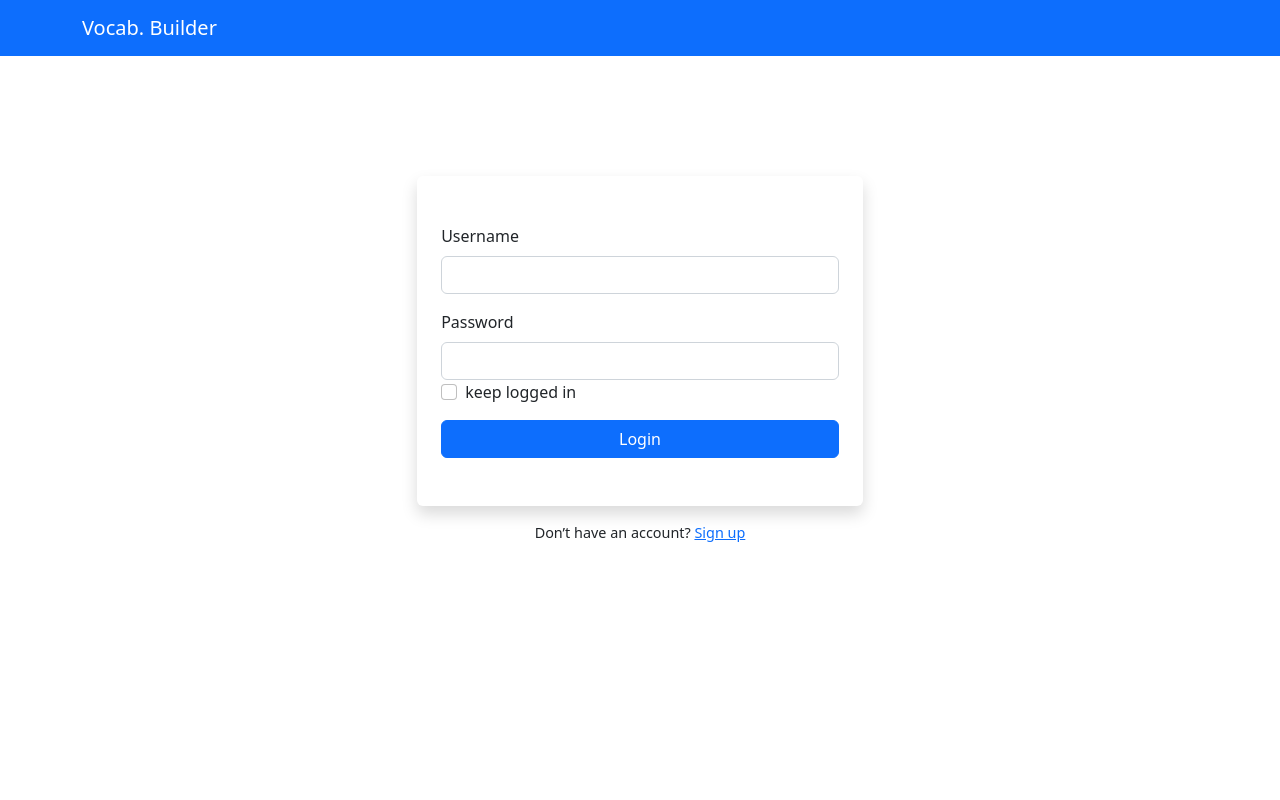
it: Login Page › Wrong username and password
This screenshot has width=1280, height=800.
Type "null" into the field named "username" at (640, 275), box left=441, top=256, right=839, bottom=294
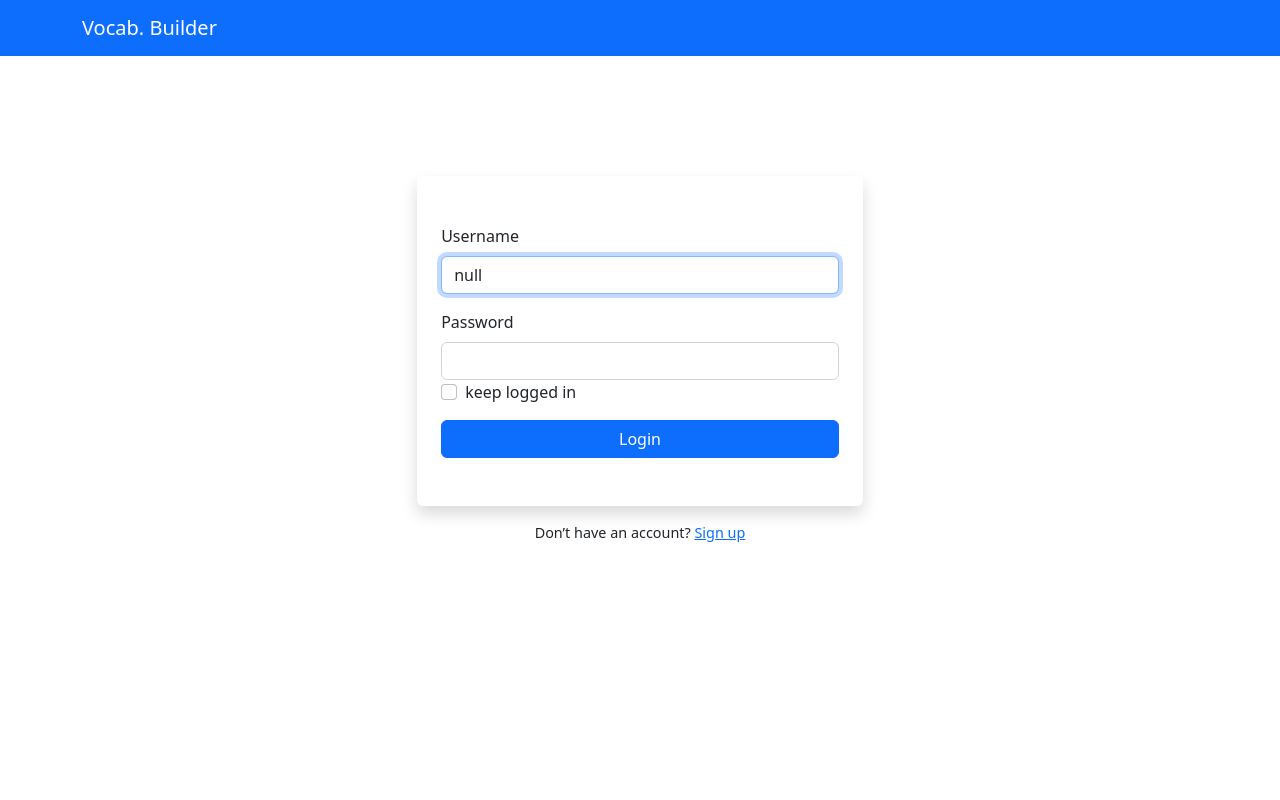
Type "null" into the password field named "password" at (640, 361), box left=441, top=342, right=839, bottom=380
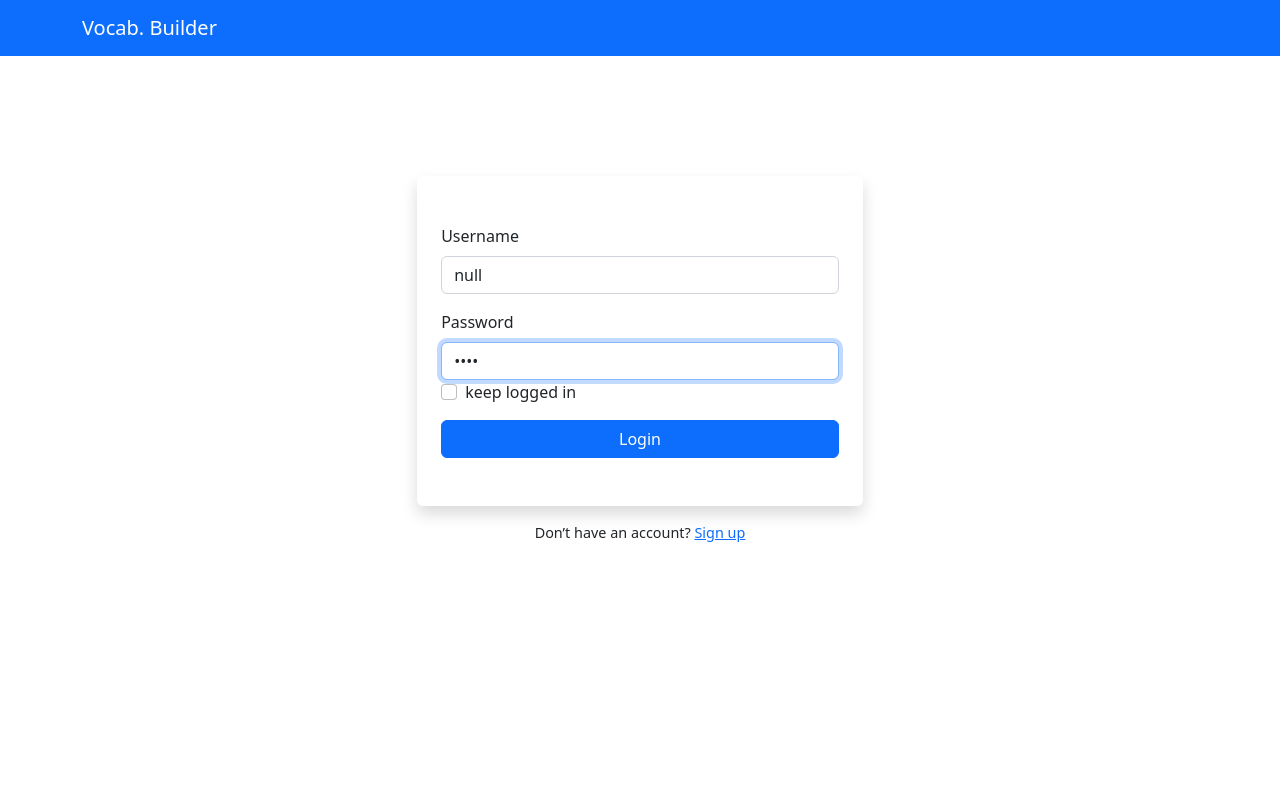
Click the submit button at (640, 439), box left=441, top=420, right=839, bottom=458
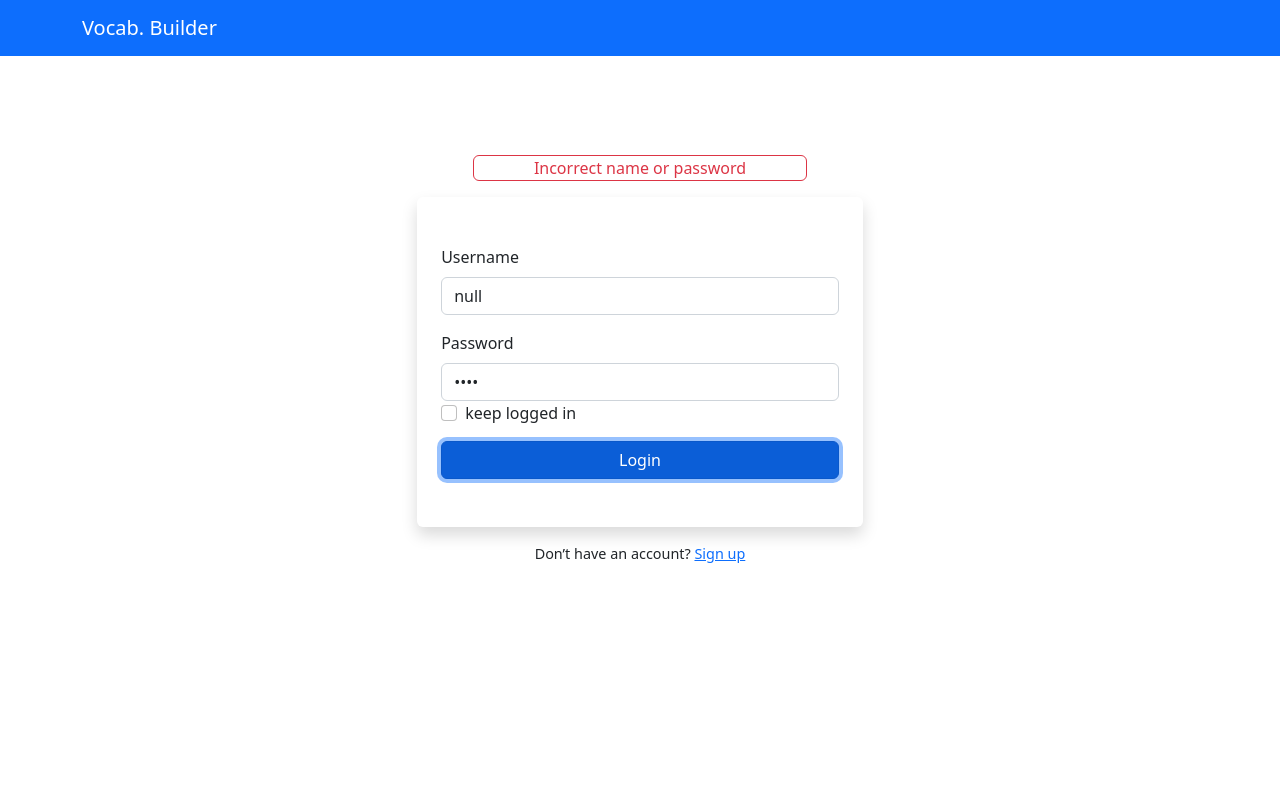
Check: the text "Incorrect name or password" is shown, box left=473, top=155, right=807, bottom=181
